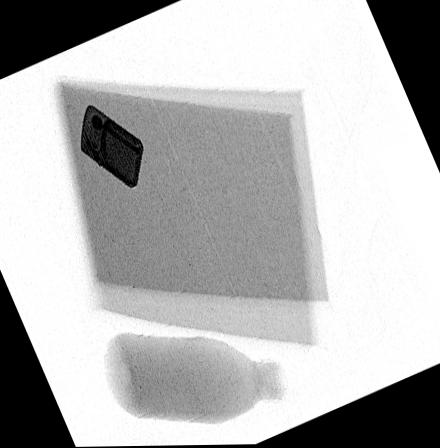Lighter: (80, 103, 144, 188)
